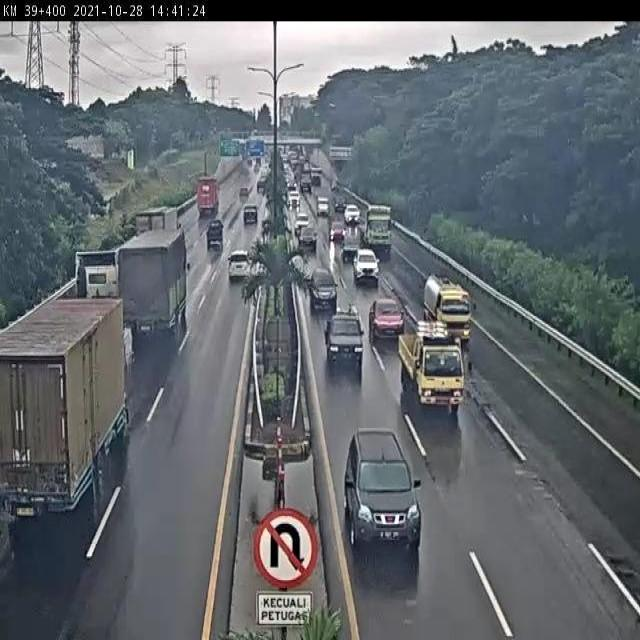Car: (344, 428, 424, 560), (368, 298, 405, 342), (307, 265, 337, 312), (352, 248, 380, 284), (227, 248, 250, 280), (294, 212, 310, 236), (330, 220, 345, 243), (344, 204, 361, 224), (287, 189, 300, 209), (317, 197, 329, 217), (334, 195, 346, 211), (239, 186, 249, 198)
Truck: (1, 296, 129, 556), (119, 225, 188, 348), (397, 321, 465, 414), (423, 272, 473, 348), (324, 312, 365, 374), (362, 205, 392, 261), (136, 206, 182, 236), (196, 178, 219, 218), (342, 231, 361, 264), (206, 218, 224, 250), (298, 226, 318, 250), (243, 204, 258, 225), (310, 166, 323, 187)
